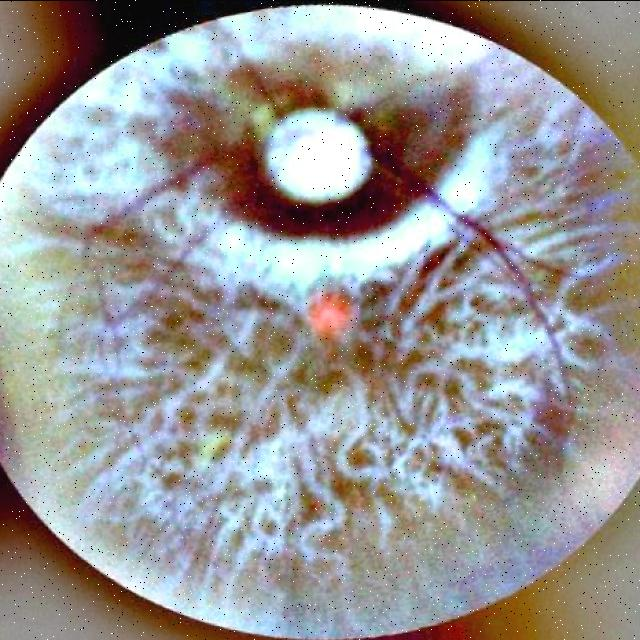Macula: (307, 291, 357, 339)
Nerves: (375, 143, 567, 376), (107, 200, 235, 324), (89, 147, 250, 235)
Optic Disk: (265, 110, 372, 202)
